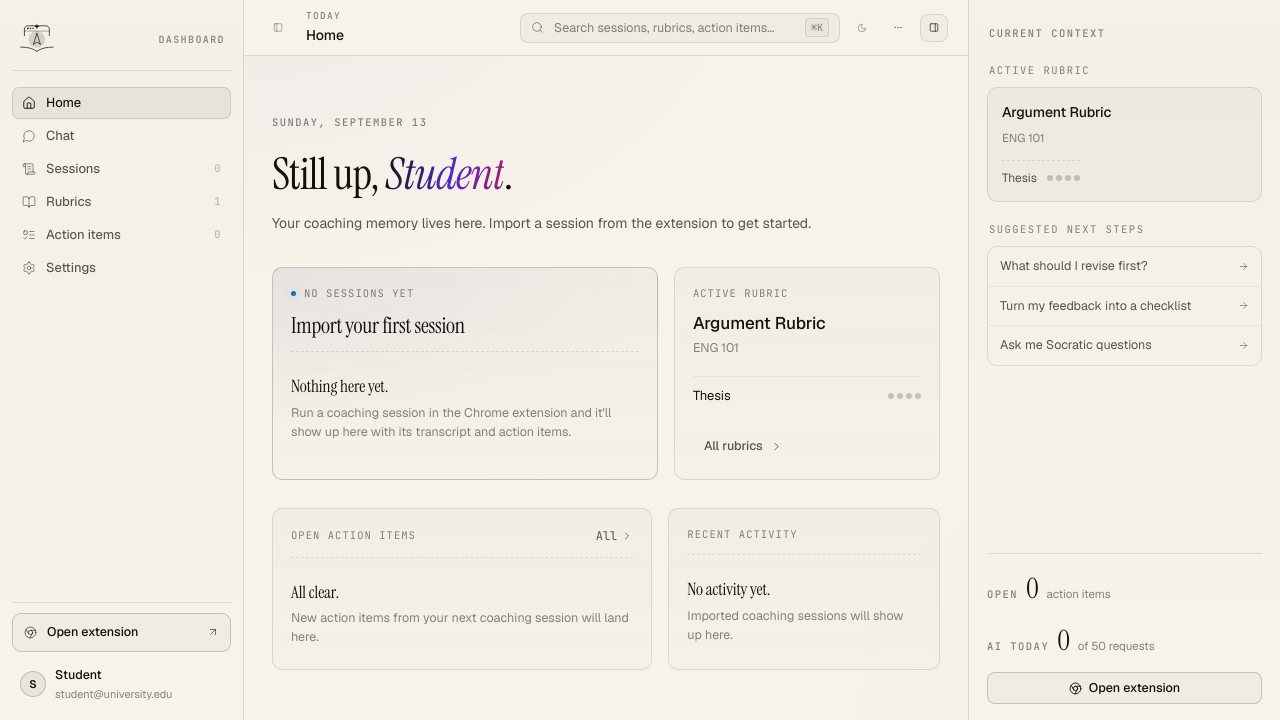
Scenario: Dashboard rubric RAG behaviors › opens getOrCreateRubricChat without activating when Ask about rubric is clicked
Click the button "Rubrics 1": x=122, y=202 [12,186,231,218]
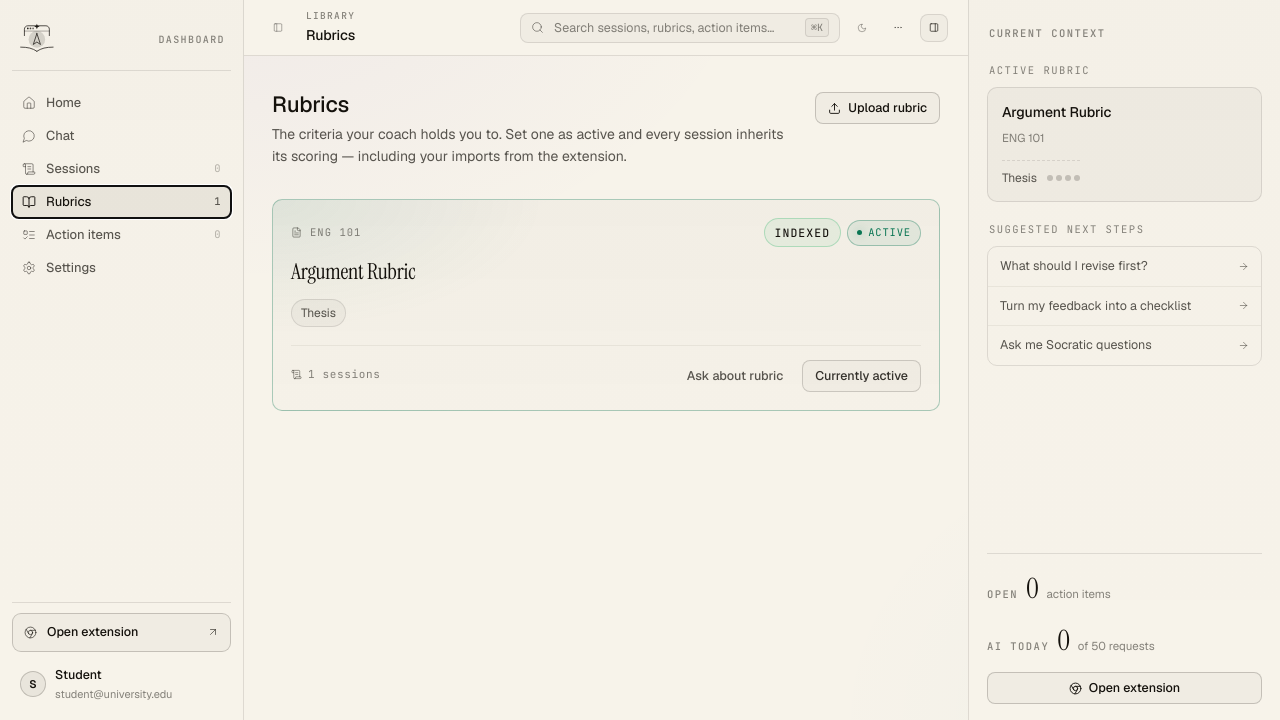
Click the button "Ask about rubric": x=735, y=376 [676,360,794,392]
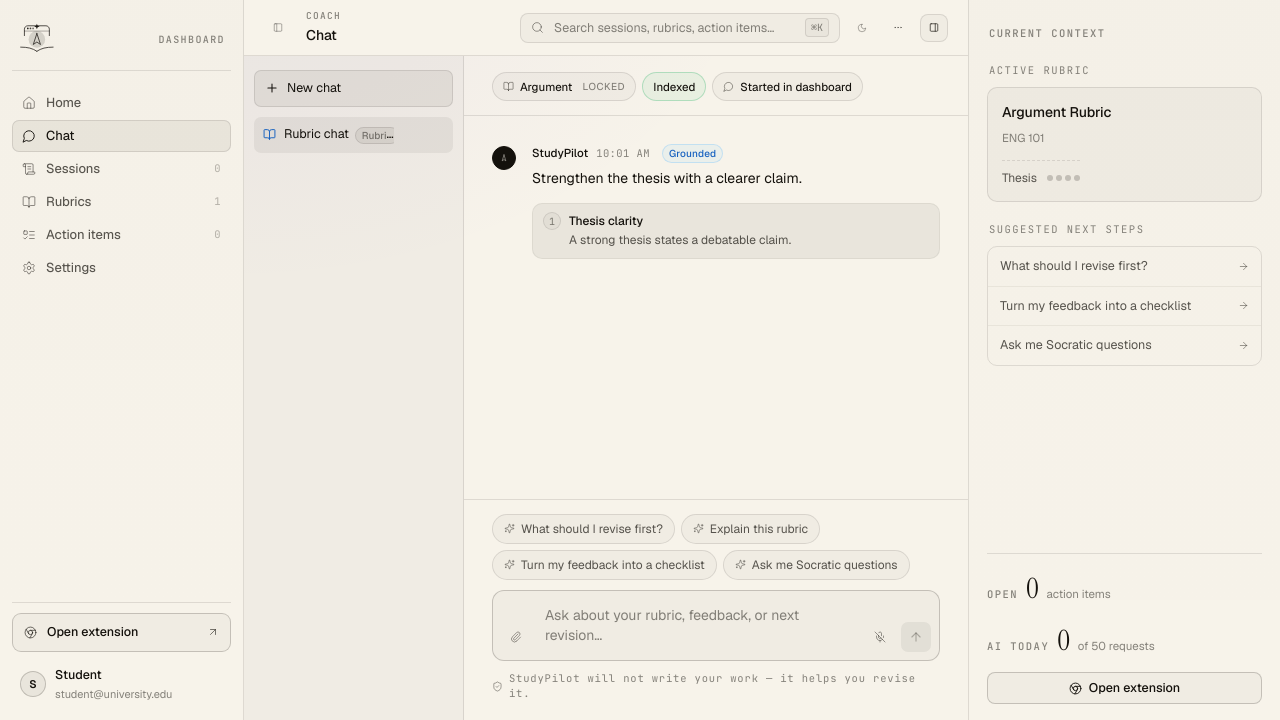
Expected: the text box with placeholder "Ask about your rubric, feedback, or next revision…" is shown, [537,598,859,652]
Expected: the element with test id "chat-rubric-chip" shows "Argument", [520,79,572,94]
